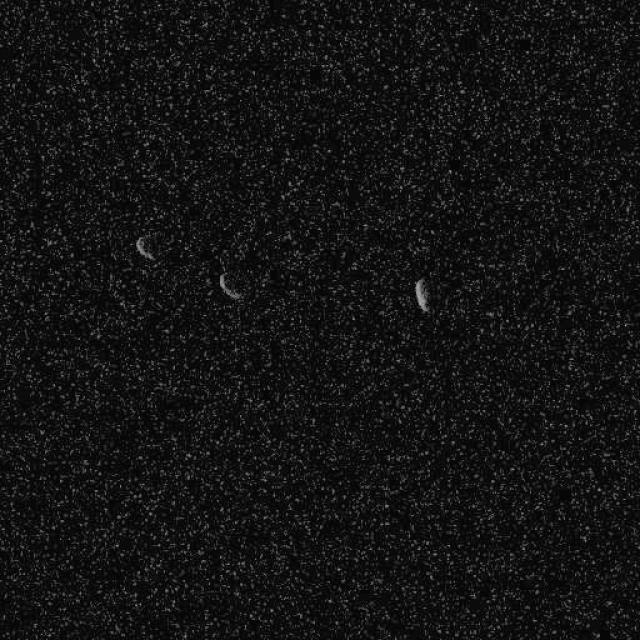D2: (216, 270, 242, 301), (412, 275, 432, 314), (134, 234, 156, 261)
